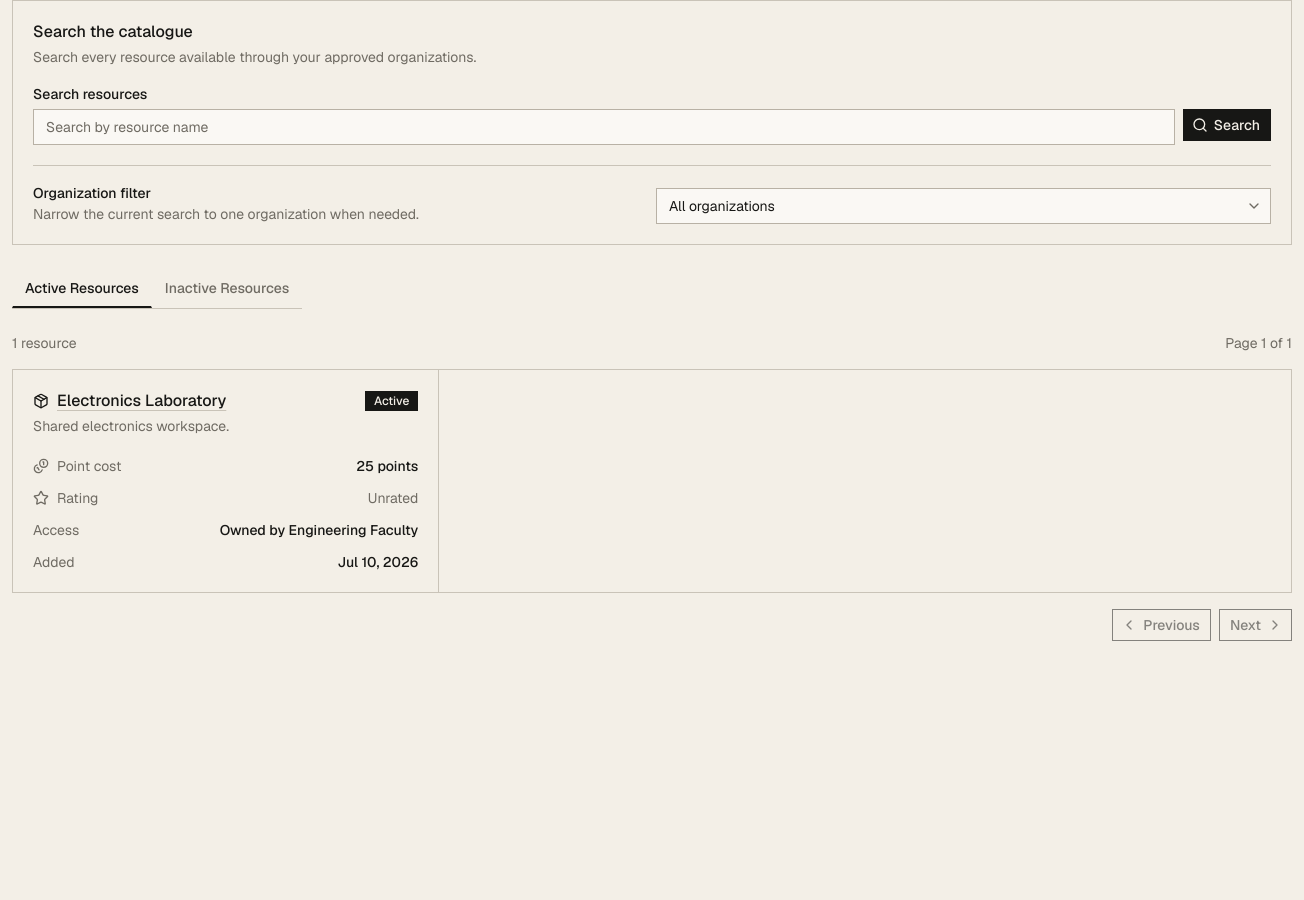
ResourceCatalogue › applies a trimmed name search and displays its empty state
Expected: the link "Electronics Laboratory" is shown, [57,390,226,412]
Type "  microscope  " into the field labelled "Search resources". click: (604, 127)
box: [33,109,1175,145]
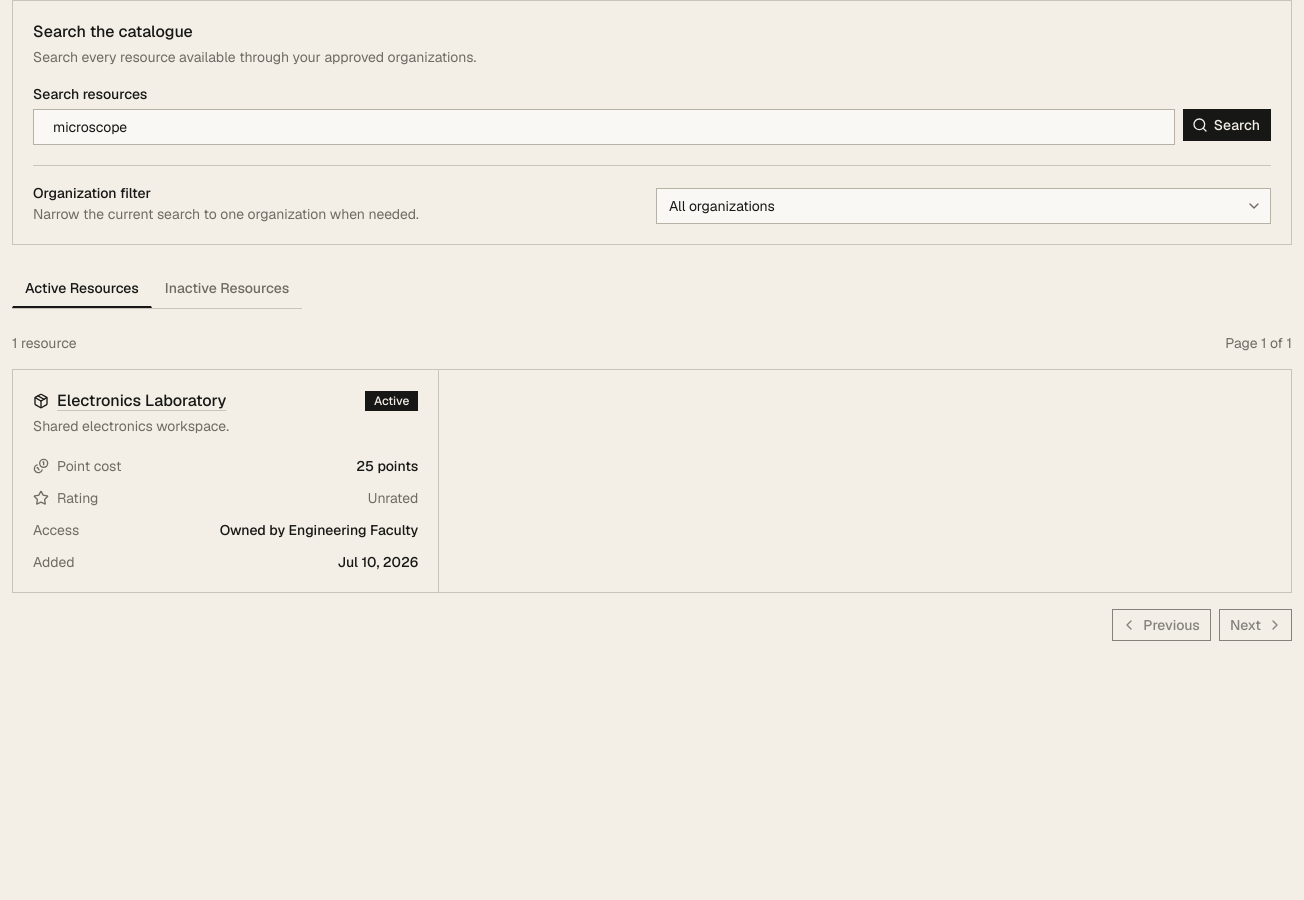
Click the button "Search". click: (1227, 125)
box: [1183,109,1271,141]
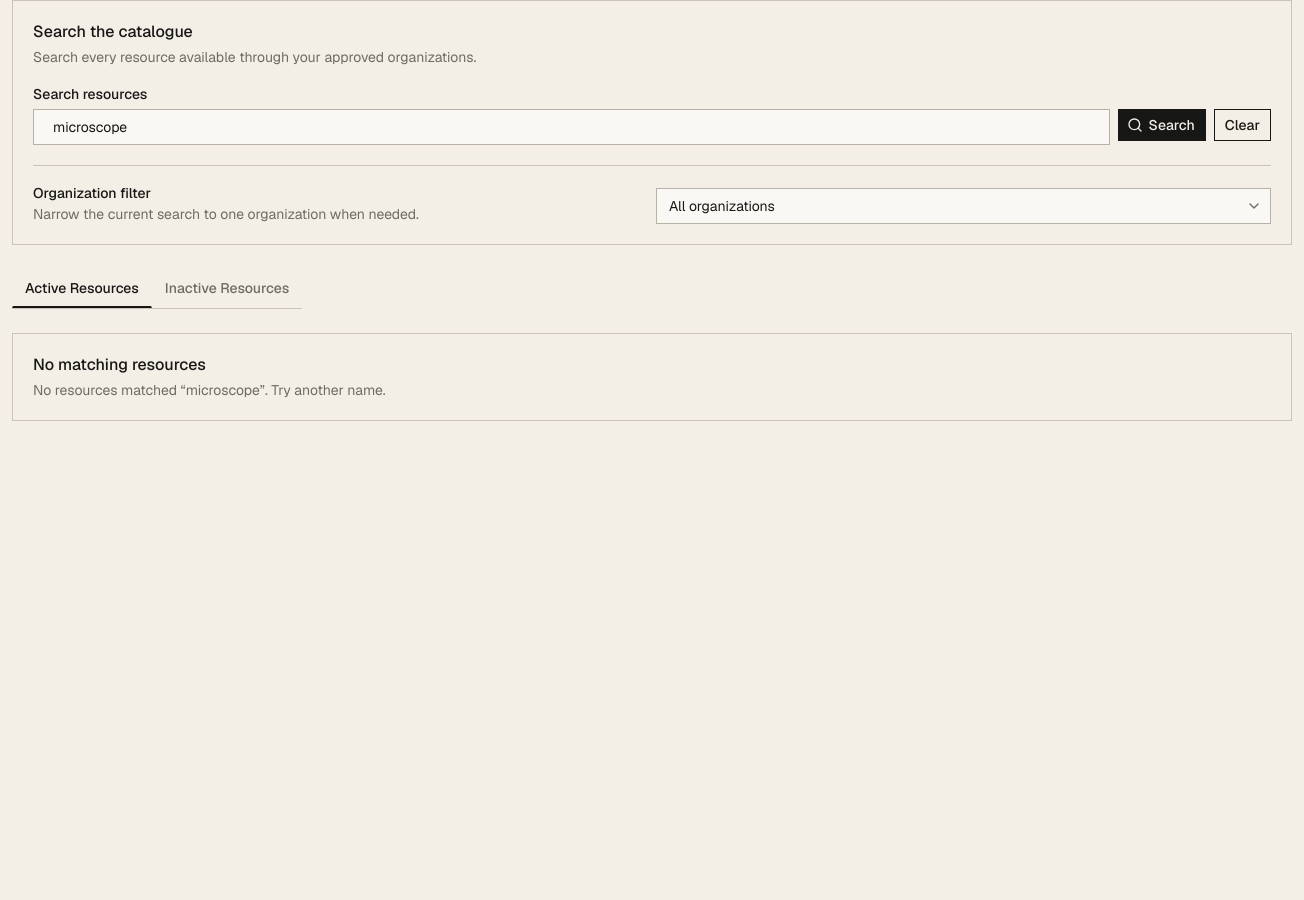
Result: the text "No matching resources" is shown at [33,354,206,375]
